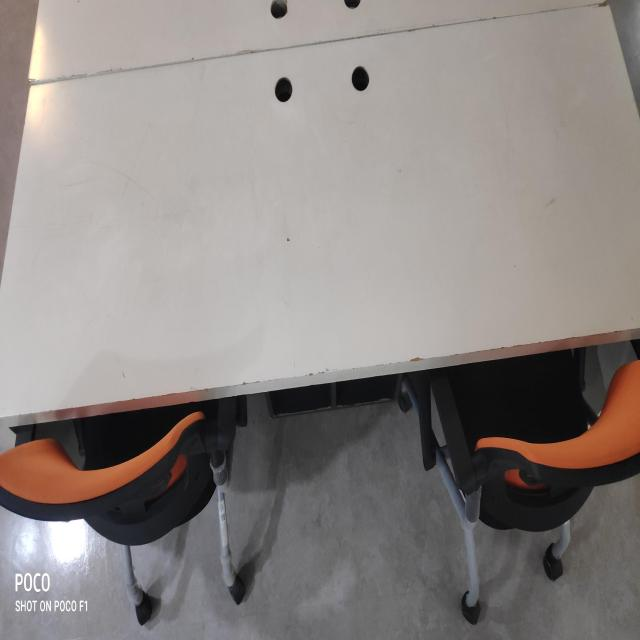Chair: (382, 337, 640, 624), (0, 388, 273, 639)
Table: (0, 0, 640, 424)
